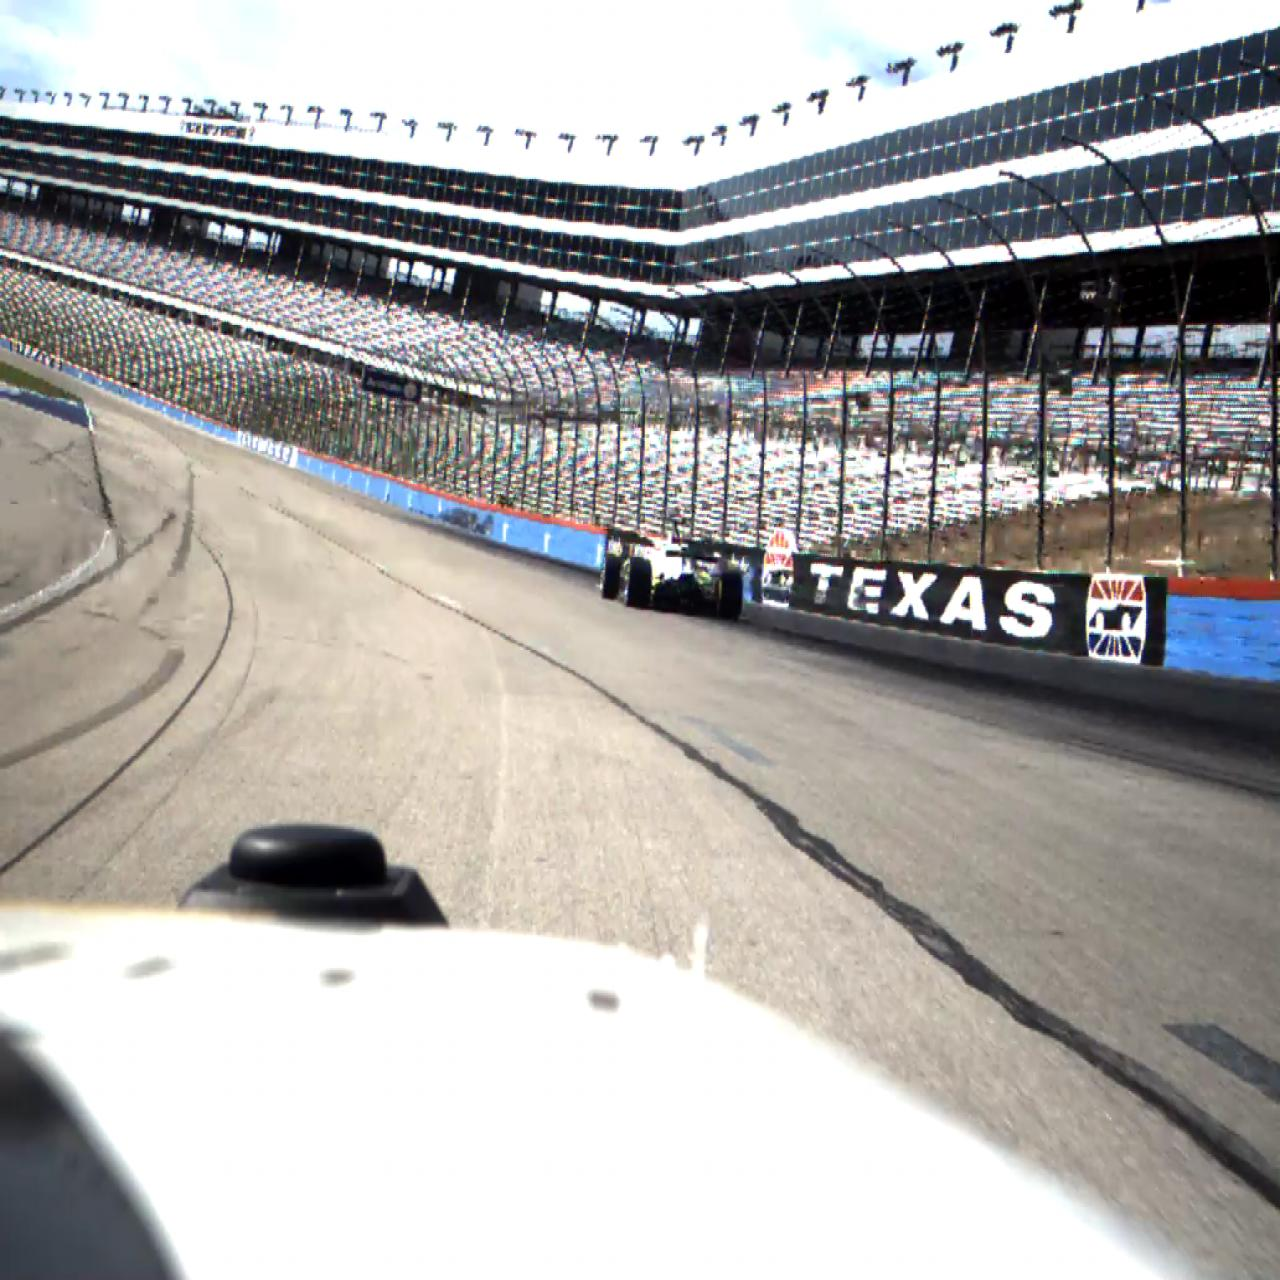AV: (596, 519, 742, 622)
Wheel: (629, 557, 652, 610), (718, 571, 742, 621), (603, 554, 620, 599)
